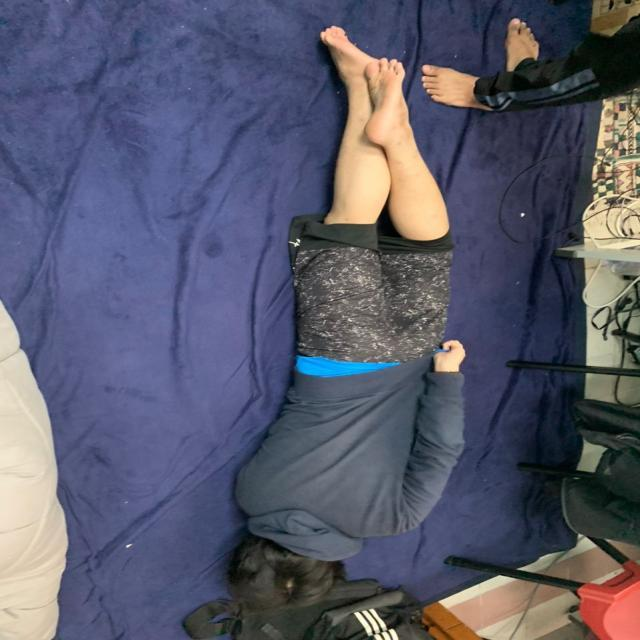fall: (194, 24, 472, 621)
